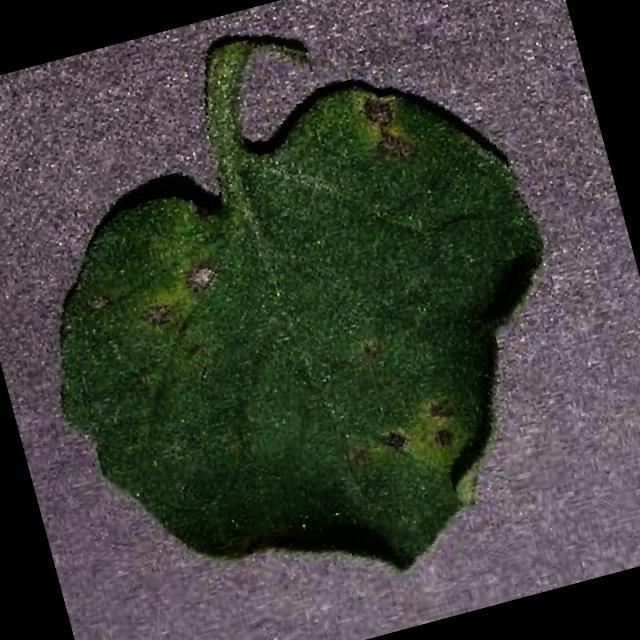Tomato Septoria spot leaf: (3, 47, 619, 640)
